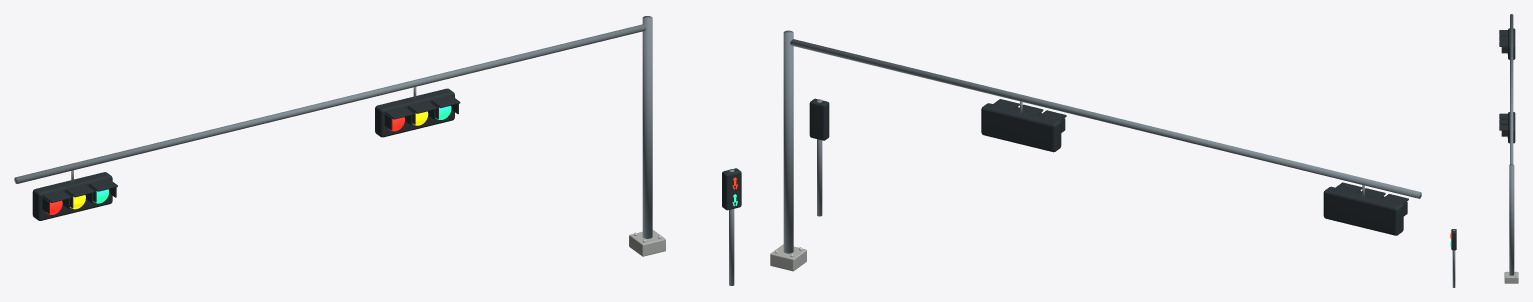
Rendered from signal.glb.
3 renders of one model, left to right at view 1: azimuth 30°, elevation 25°; view 2: azimuth 150°, elevation 25°; view 3: azimuth 270°, elevation 25°, orthographic. The views are drawn at different scales.
Visible parts, largest first — view 1: Cantilever boom, Main mast, Traffic signal housing, Traffic signal housing.001, Pedestrian signal case, Cast concrete plinth, Pedestrian mast; view 2: Cantilever boom, Traffic signal housing.001, Traffic signal housing, Main mast, Pedestrian signal case, Cast concrete plinth, Pedestrian mast; view 3: Main mast, Cantilever boom, Cast concrete plinth, Pedestrian mast, Traffic signal housing, Traffic signal housing.001, Pedestrian signal case, Lens rain hood.001, Lens rain hood.003.
Boxes of the visible parts, x1,y1,x2,y2 form: Cantilever boom: (14,24,646,183); Main mast: (642,16,652,238); Traffic signal housing: (32,172,112,220); Traffic signal housing.001: (375,88,454,137); Pedestrian signal case: (722,168,741,210); Cast concrete plinth: (629,230,665,256); Pedestrian mast: (729,169,734,285); Cantilever boom: (790,39,1421,198); Traffic signal housing.001: (981,103,1061,152); Traffic signal housing: (1323,186,1403,235); Main mast: (783,30,793,253); Pedestrian signal case: (809,98,829,140); Cast concrete plinth: (770,244,806,271); Pedestrian mast: (817,99,822,216); Main mast: (1509,164,1514,275); Cantilever boom: (1510,14,1513,164); Cast concrete plinth: (1504,272,1518,283); Pedestrian mast: (1452,229,1455,287); Traffic signal housing: (1508,28,1515,59); Traffic signal housing.001: (1508,112,1515,143); Pedestrian signal case: (1451,229,1456,250); Lens rain hood.001: (1499,35,1507,41); Lens rain hood.003: (1499,113,1507,119).
Size of the model in its own units: 20.04 by 6.65 by 3.55.
